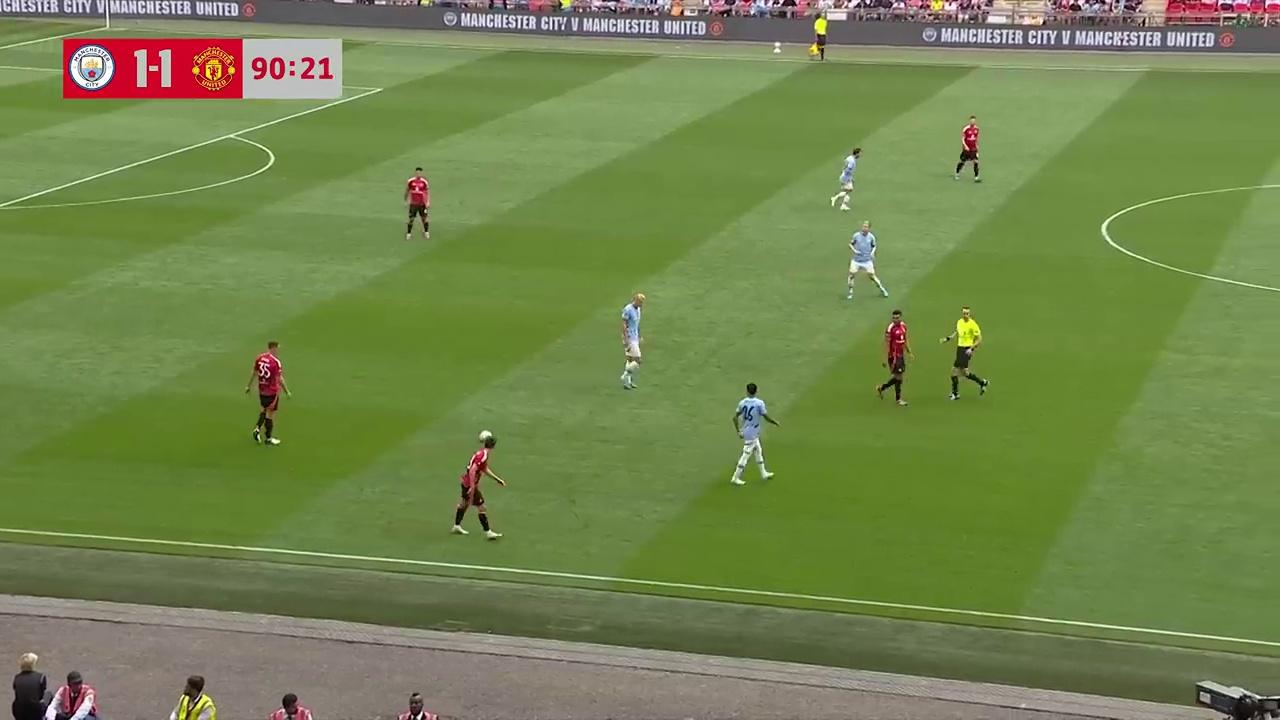ball: (478, 428, 493, 442)
player: (450, 431, 505, 538), (730, 382, 777, 485), (247, 340, 290, 445), (875, 308, 914, 406), (844, 220, 887, 301), (619, 291, 646, 389), (403, 166, 431, 240), (830, 147, 862, 210), (953, 115, 981, 183)
referee: (938, 305, 988, 401), (807, 13, 829, 61)
